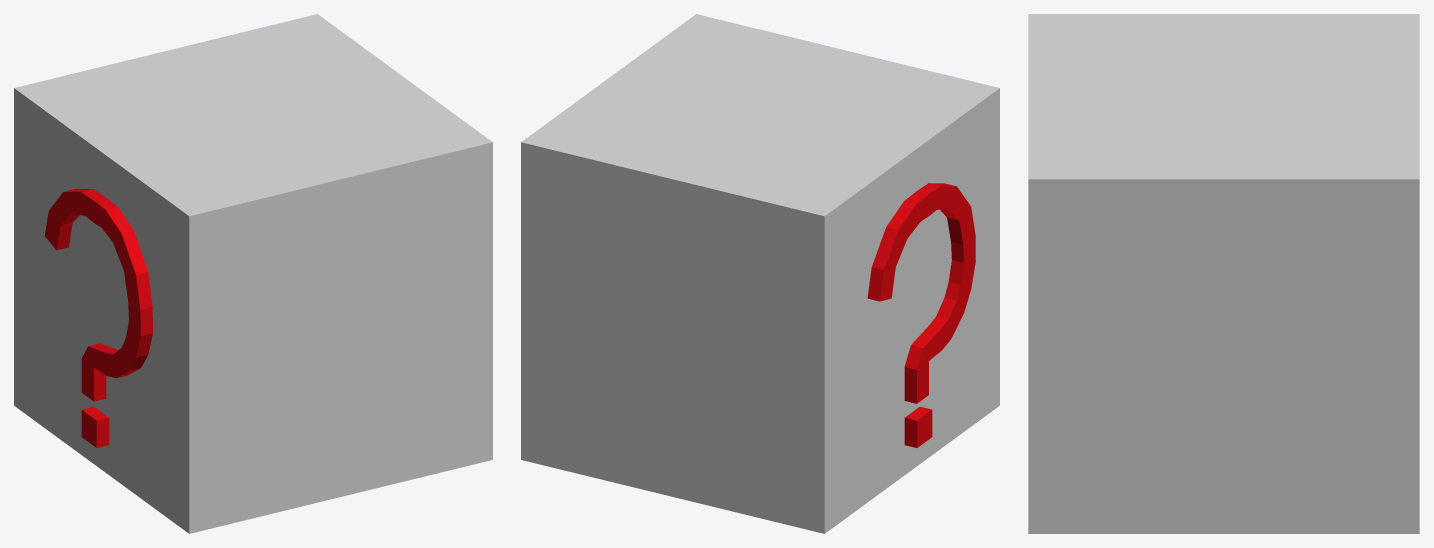
The model's file is question.fbx.
3 renders of one model, left to right at view 1: azimuth 30°, elevation 25°; view 2: azimuth 150°, elevation 25°; view 3: azimuth 270°, elevation 25°, orthographic. The views are drawn at different scales.
Visible parts, largest first — view 1: Cube, Cube.002, Cube.001; view 2: Cube, Cube.002, Cube.001; view 3: Cube.
Boxes of the visible parts, x1,y1,x2,y2 form: Cube: (14, 14, 492, 533); Cube.002: (44, 189, 152, 401); Cube.001: (81, 406, 109, 447); Cube: (521, 14, 999, 533); Cube.002: (867, 183, 975, 403); Cube.001: (904, 406, 932, 447); Cube: (1028, 14, 1419, 533).
Bounding box in the file's own units: 208 × 200 × 200.
